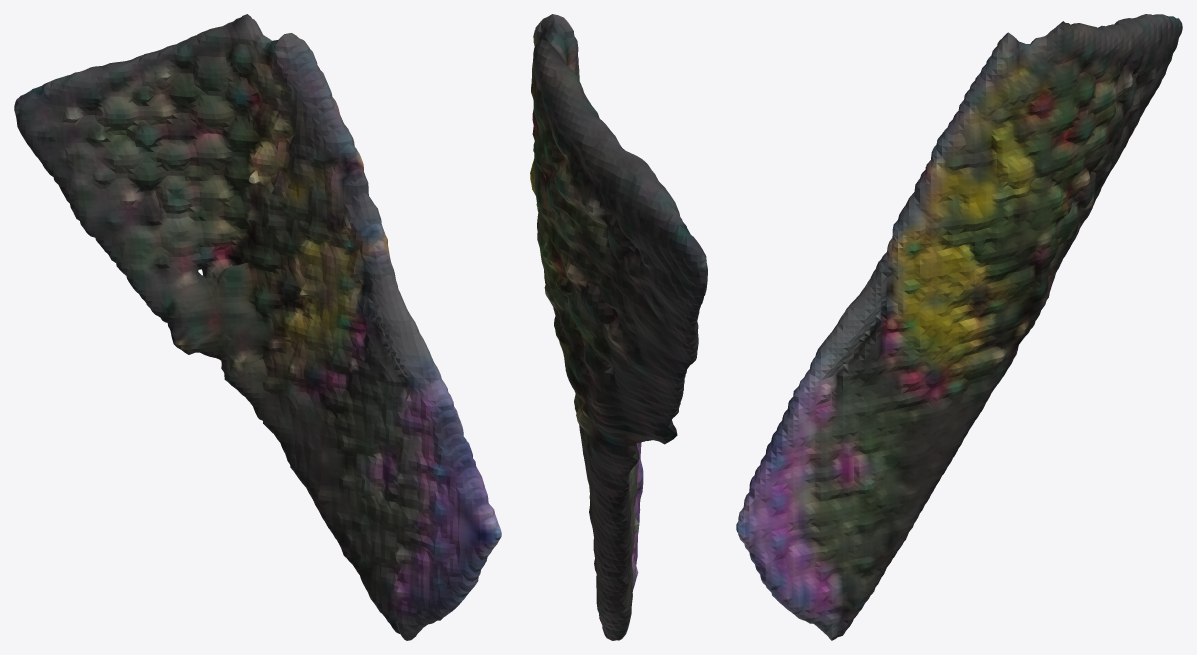
The picture shows the model from 3 angles, left to right: view 1: azimuth 30°, elevation 25°; view 2: azimuth 150°, elevation 25°; view 3: azimuth 270°, elevation 25°; orthographic projection. The views are drawn at different scales.
Bounding box in the file's own units: 0.4238 × 0.8068 × 0.5531.
